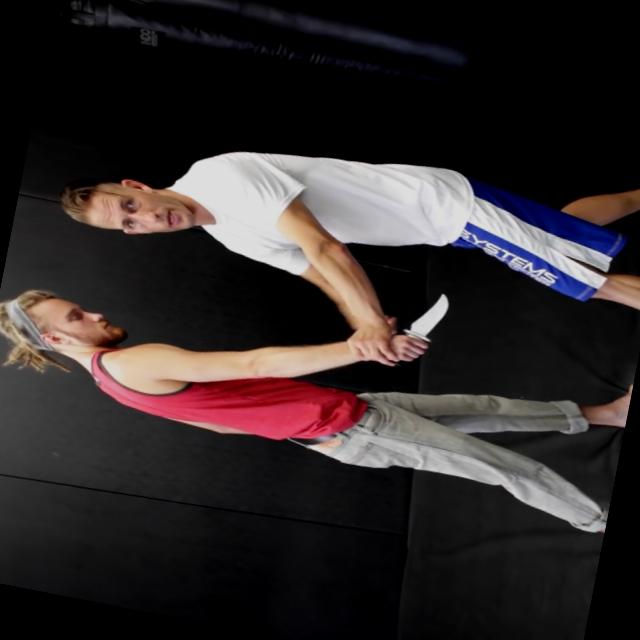knife: (392, 283, 461, 376)
